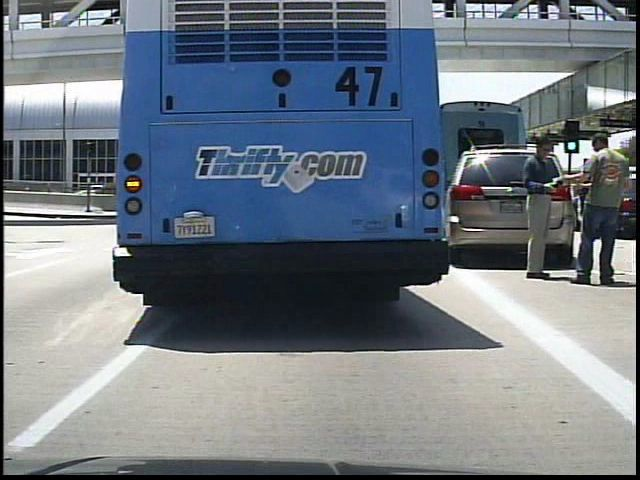person: (570, 121, 630, 291), (516, 130, 566, 281)
